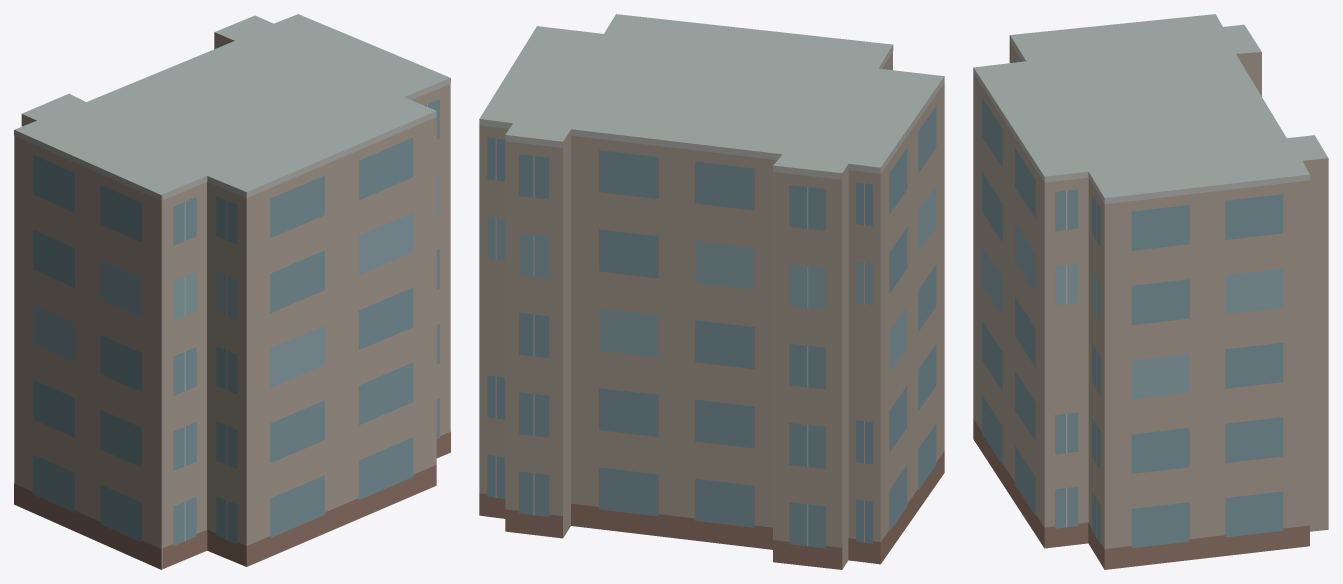
The model's file is survey-upis-32640670.glb.
The picture shows the model from 3 angles, left to right: view 1: azimuth 30°, elevation 25°; view 2: azimuth 150°, elevation 25°; view 3: azimuth 270°, elevation 25°; orthographic projection. The views are drawn at different scales.
Visible parts, largest first — view 1: survey-upis-32640670.tmp; view 2: survey-upis-32640670.tmp; view 3: survey-upis-32640670.tmp.
Boxes of the visible parts, box(x1,y1,x2,y2) form: survey-upis-32640670.tmp: box(14, 14, 450, 569); survey-upis-32640670.tmp: box(479, 14, 944, 569); survey-upis-32640670.tmp: box(973, 14, 1328, 569).
Bounding box in the file's own units: 16.22 × 15.25 × 13.22.
